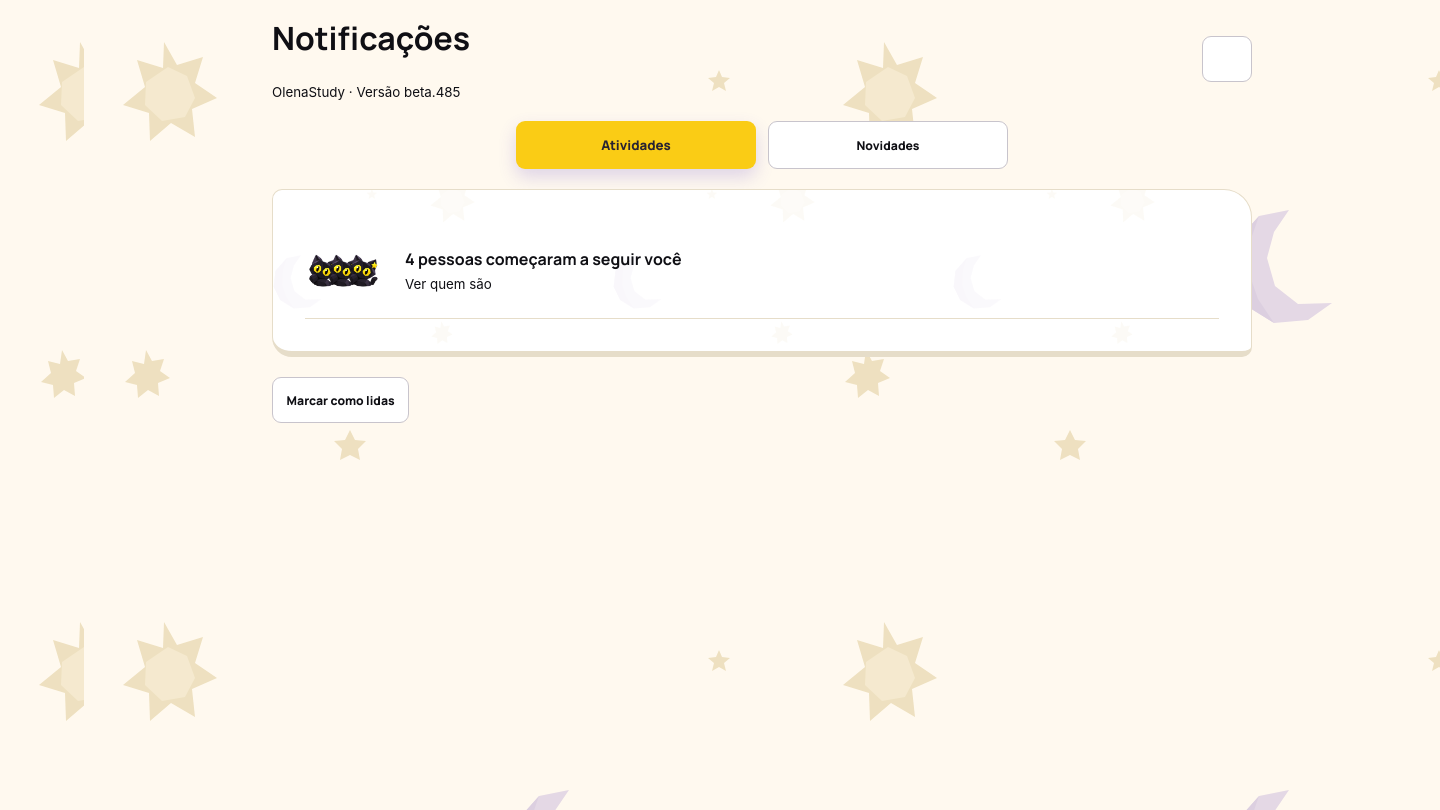
Test: agrupa quatro seguidores e permite inspecionar as contas ao expandir
Click the text "4 pessoas começaram a seguir você" at [543, 259], box [405,248,682,270]
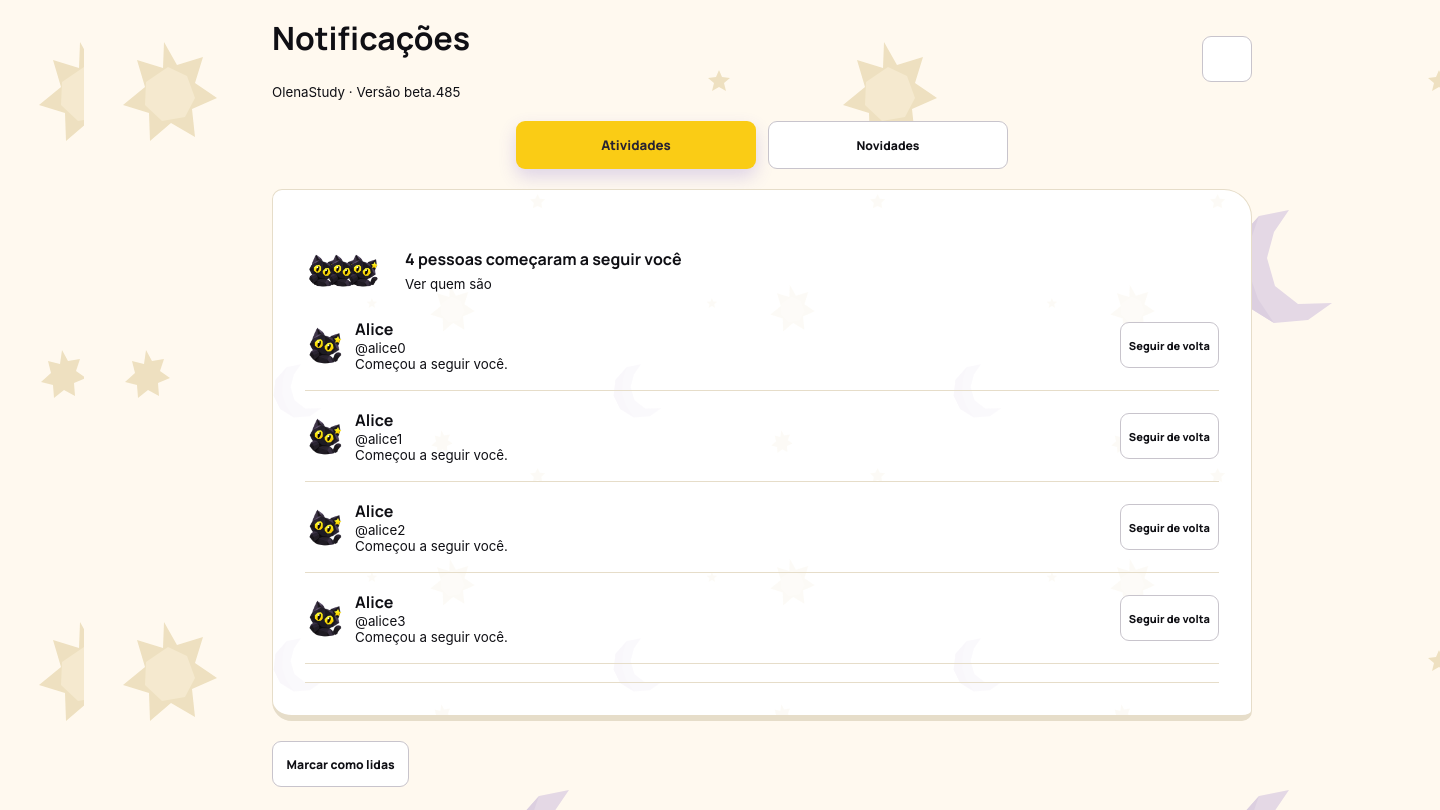
Expected: the number of buttons named "Visitar perfil" is 4, [305,318,1108,372]; [305,409,1108,463]; [305,500,1108,554]; [305,591,1108,645]
